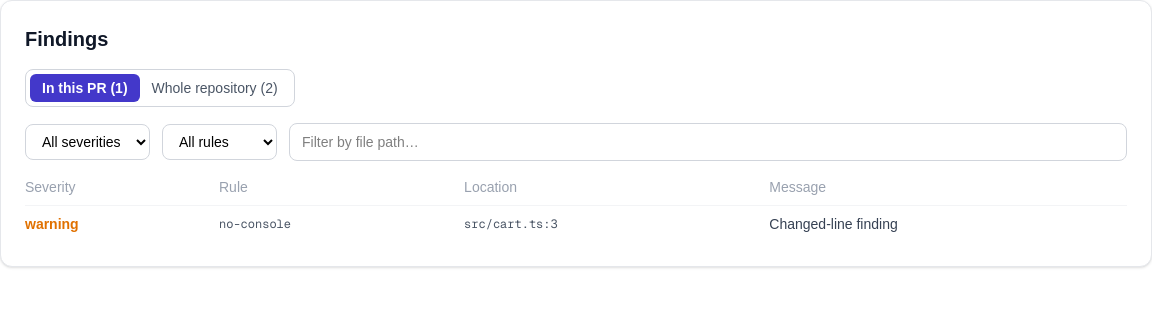
Test: FindingsExplorer — pull request scope › switches to the whole repository
Step 1. Click the button "Whole repository (2)" → click(215, 88), box [140,74,290,102]
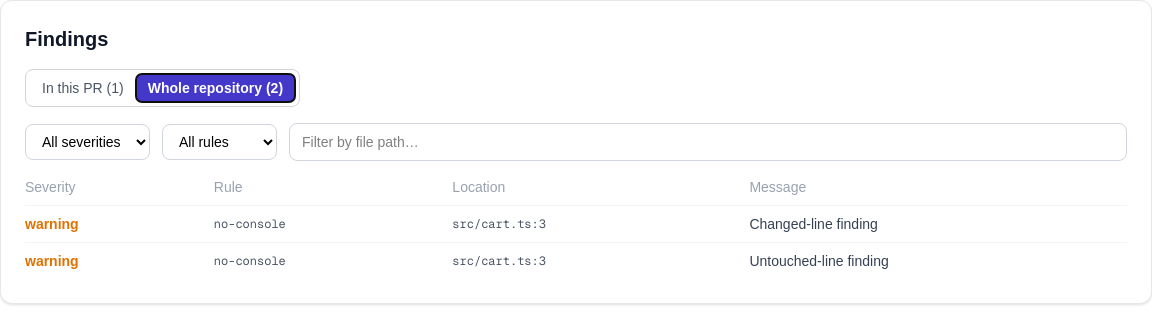
Now the text "Untouched-line finding" is shown, box [749,242,1127,279]
